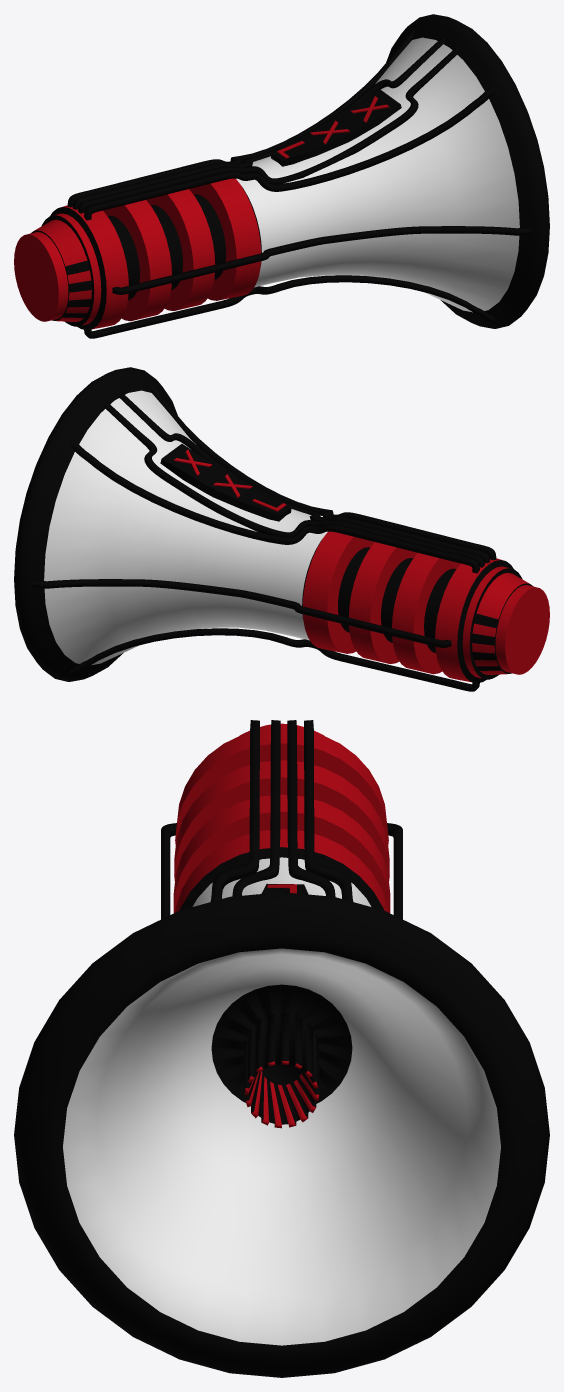
File: enlarger.fbx
The picture shows the model from 3 angles, top to bottom: view 1: azimuth 30°, elevation 25°; view 2: azimuth 150°, elevation 25°; view 3: azimuth 270°, elevation 25°; orthographic projection. The views are drawn at different scales.
Visible parts, largest first — view 1: Enlarger; view 2: Enlarger; view 3: Enlarger.
Part boxes in pixels (x1=…): Enlarger: x1=14, y1=14, x2=549, y2=338; Enlarger: x1=14, y1=367, x2=549, y2=691; Enlarger: x1=14, y1=720, x2=549, y2=1377.
Bounding box in the file's own units: 1.61 × 1.01 × 1.01.
